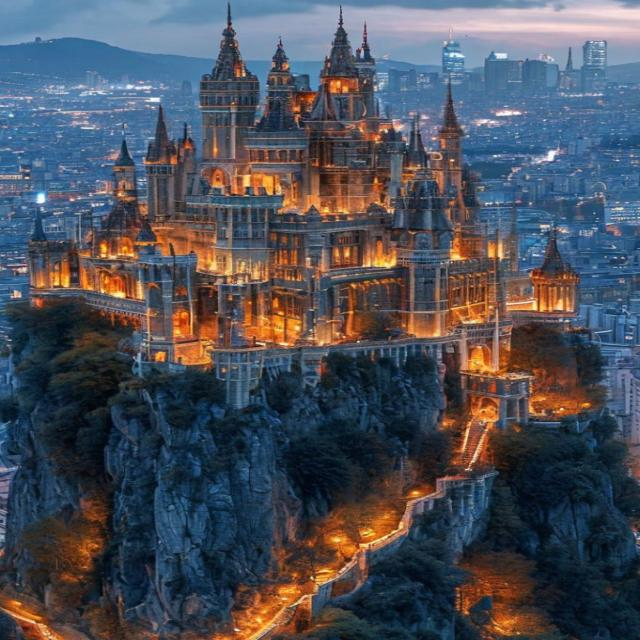castle: (22, 1, 600, 376)
